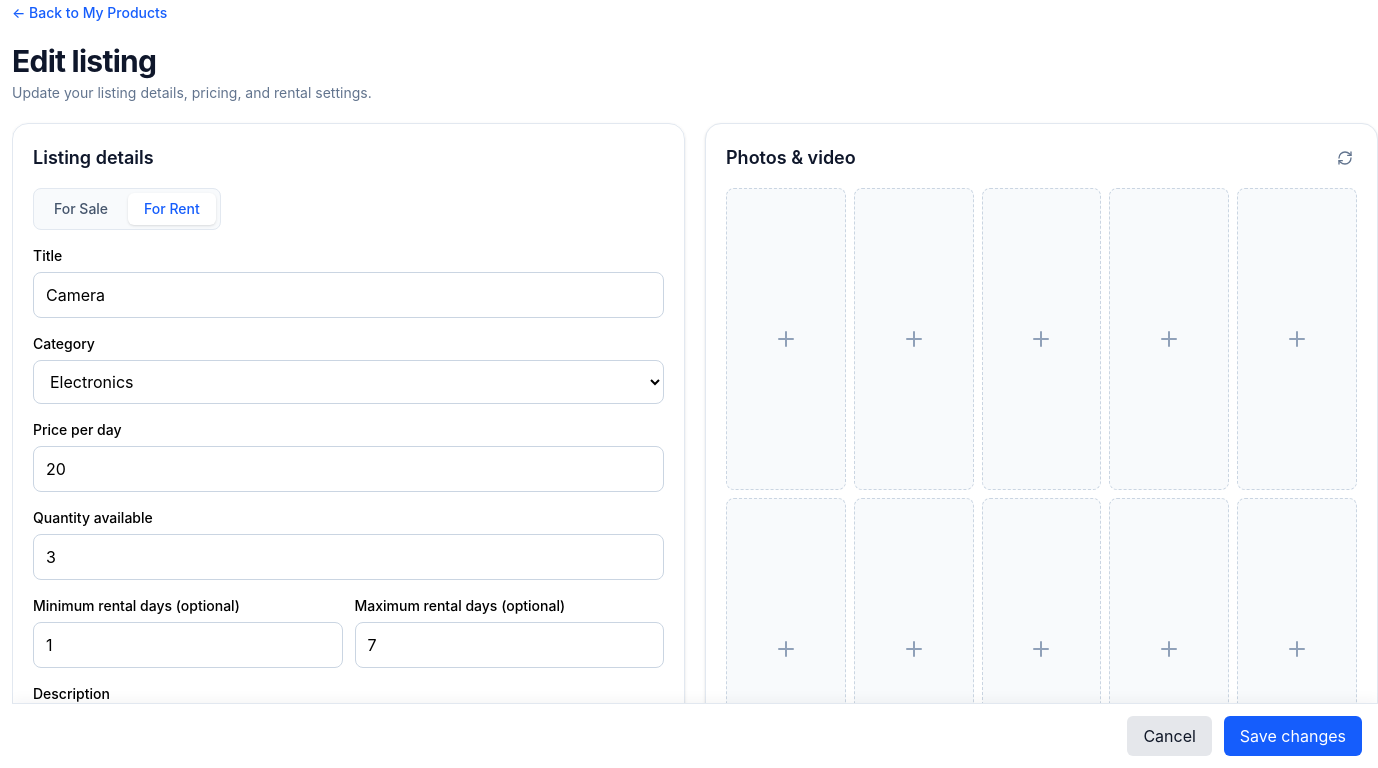
Test case: disables editing after a save returns 403
Replace the text in the field labelled "Title" with "Unsaved title" at point(348, 295), box [33,272,664,318]
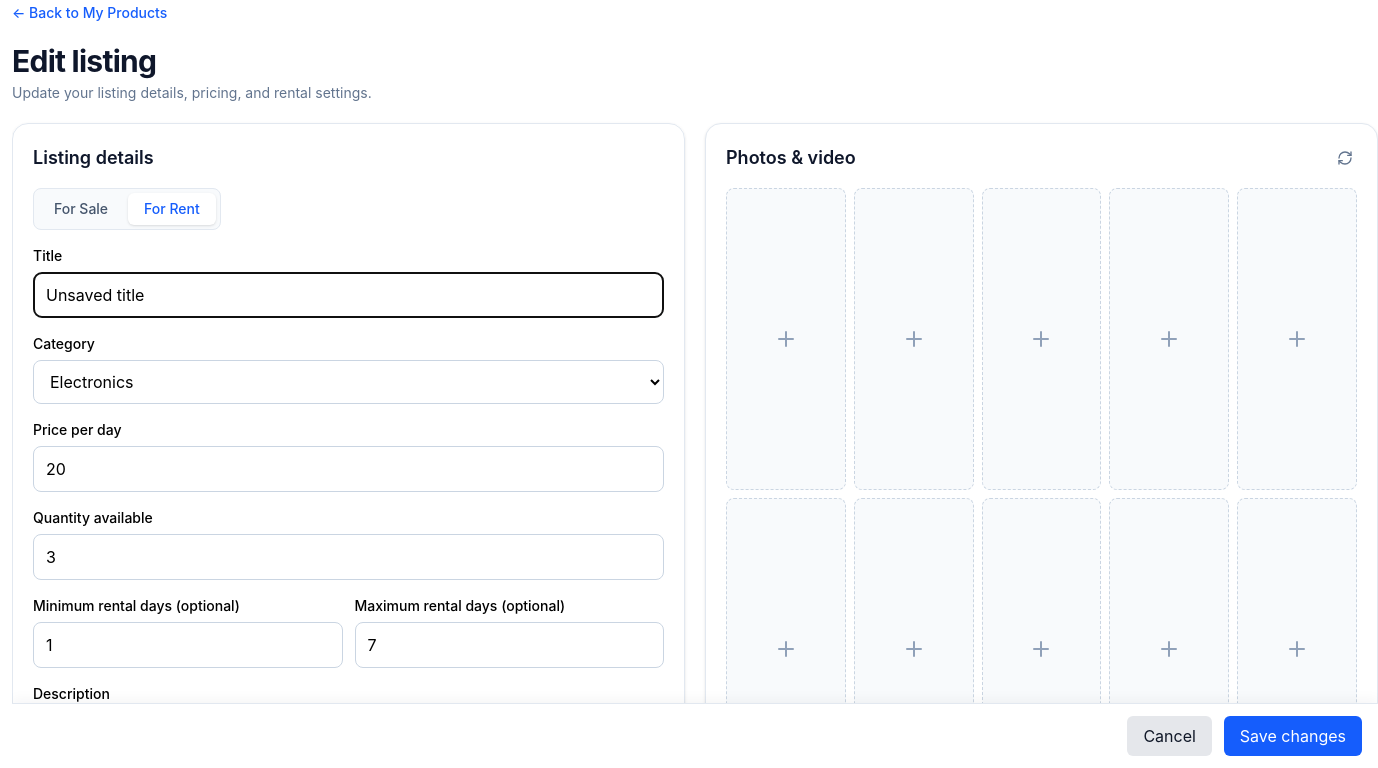
Click the button "Save changes".
click(1293, 736)  # box [1224,716,1362,756]
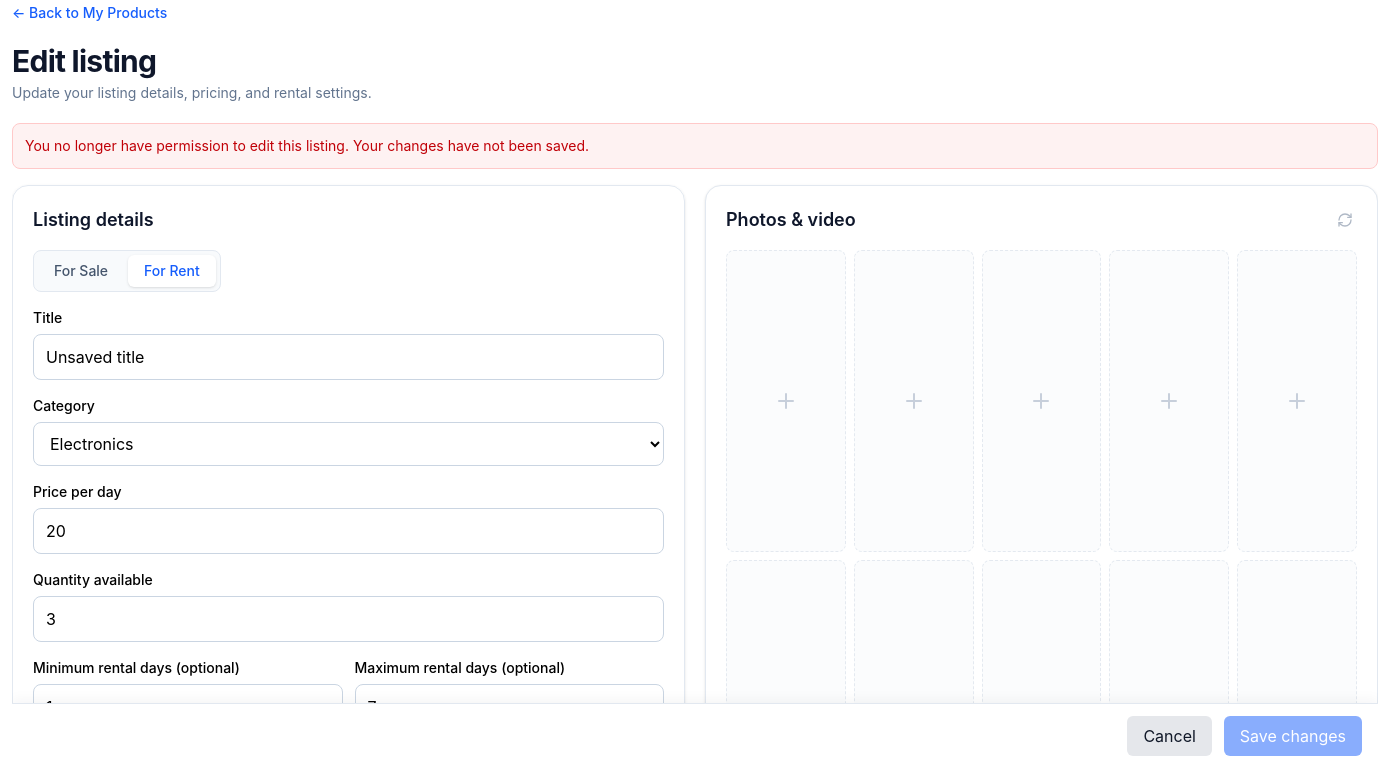
expect the message shows "no longer have permission": met, box [25,137,589,154]
expect the button "Save changes" is disabled: met, box [1224,716,1362,756]
